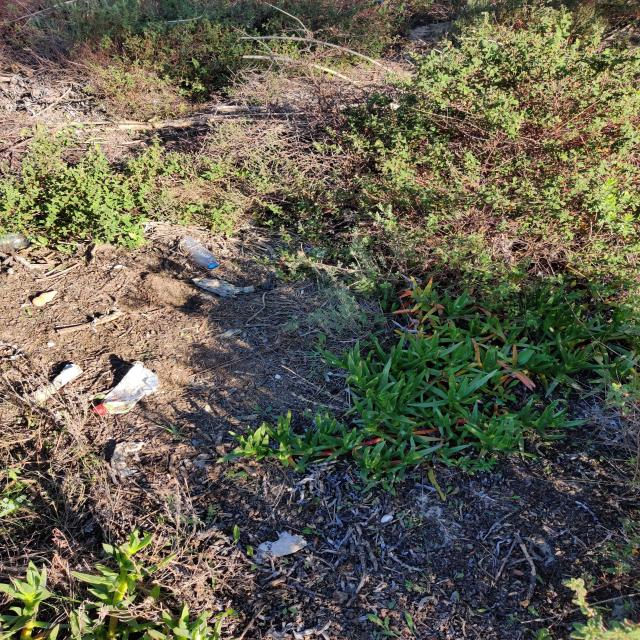litter: (87, 361, 159, 418), (177, 231, 220, 272), (190, 277, 260, 299)
